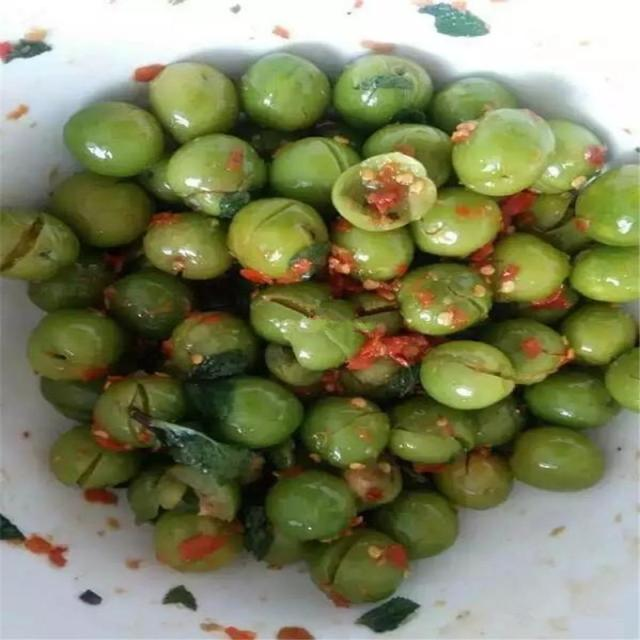Wet Waste: (2, 50, 639, 605)
